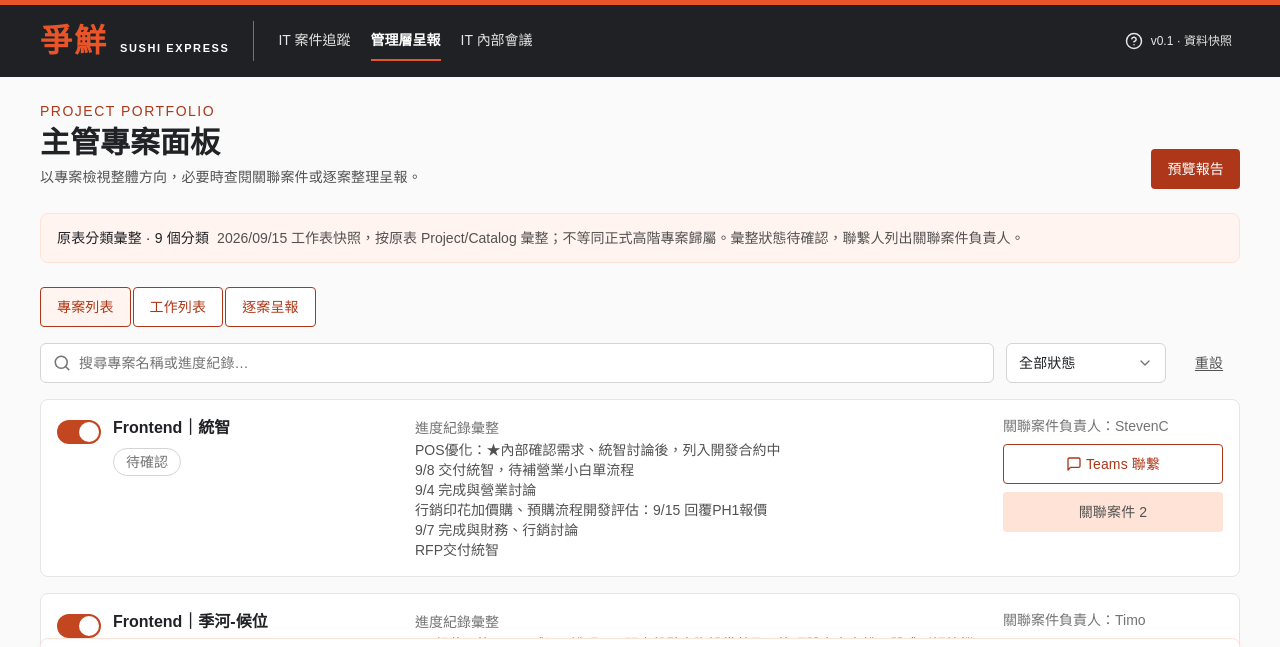
ManagementView：工作列表（US-003） › 以案件為單位列出並可搜尋案件、專案或負責人
The width and height of the screenshot is (1280, 647).
Click the tab "工作列表".
click(178, 307)  # box x1=133 y1=287 x2=223 y2=327
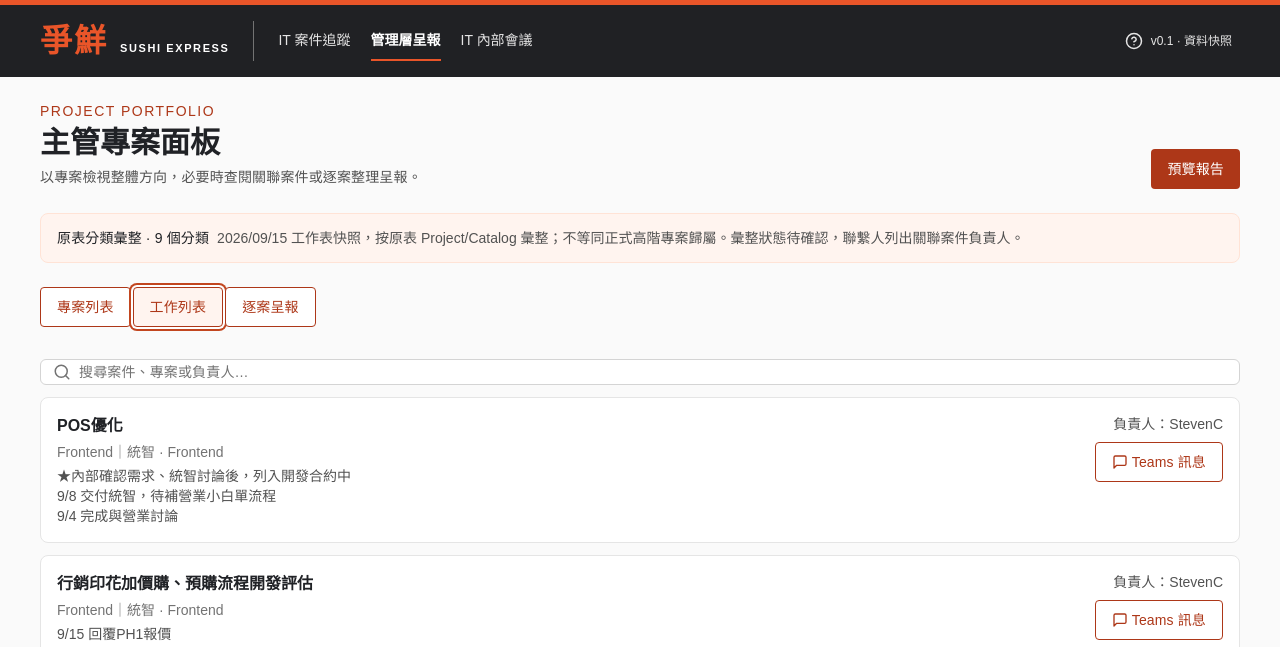
Type "herbert" into the search field named "搜尋管理層工作列表".
click(653, 372); type("herbert")  # box x1=79 y1=360 x2=1227 y2=384
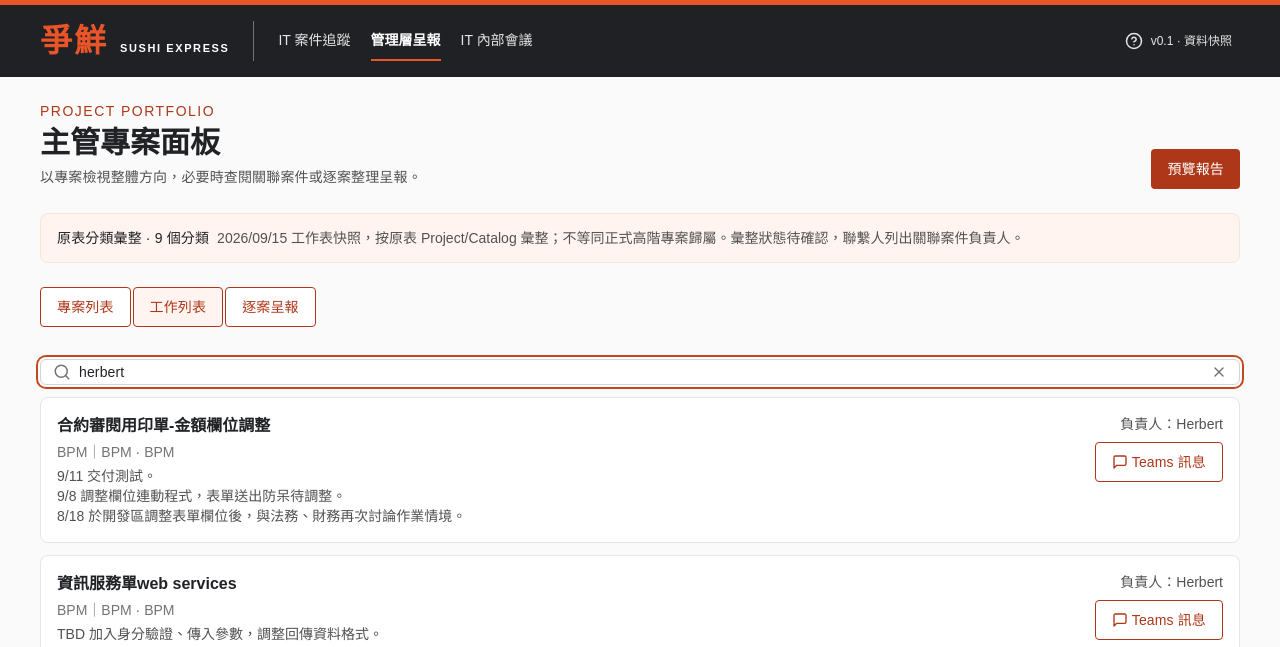
Click the 1st button "Teams 訊息".
click(1159, 462)  # box x1=1095 y1=442 x2=1223 y2=482
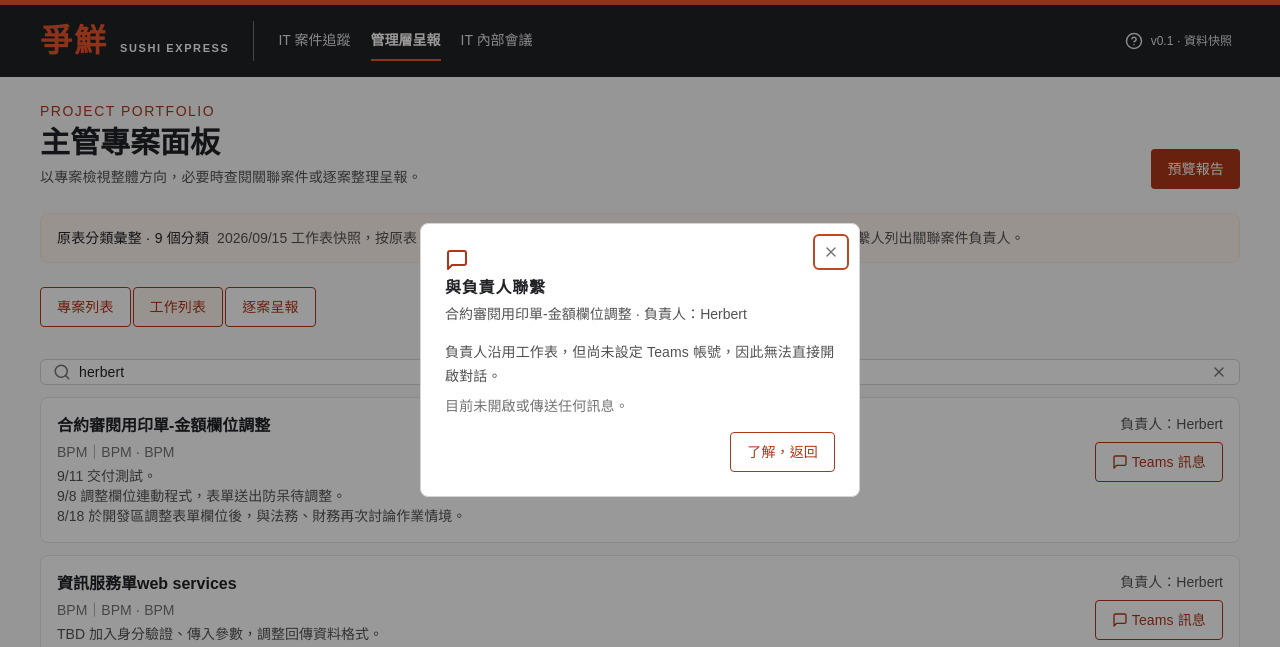
Expected: the dialog "與負責人聯繫" shows "Herbert", x1=700 y1=306 x2=747 y2=322
